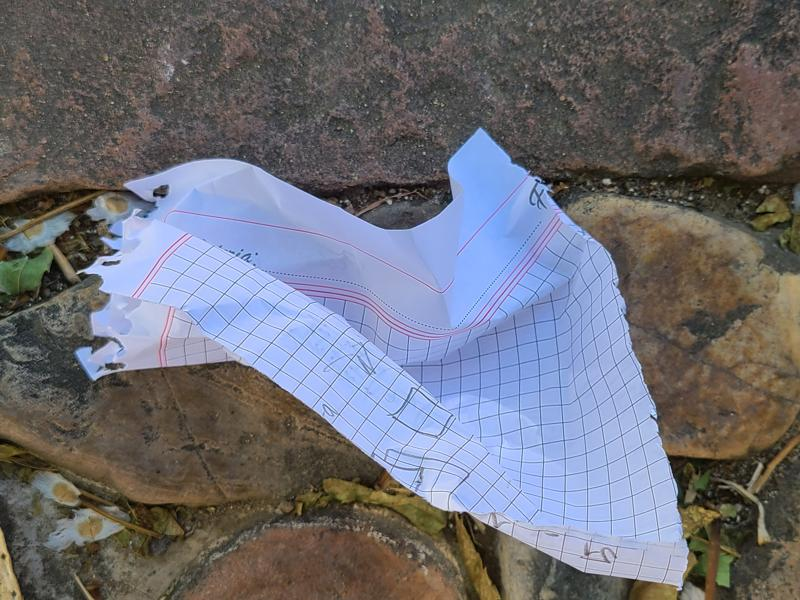papel: (73, 130, 688, 587)
